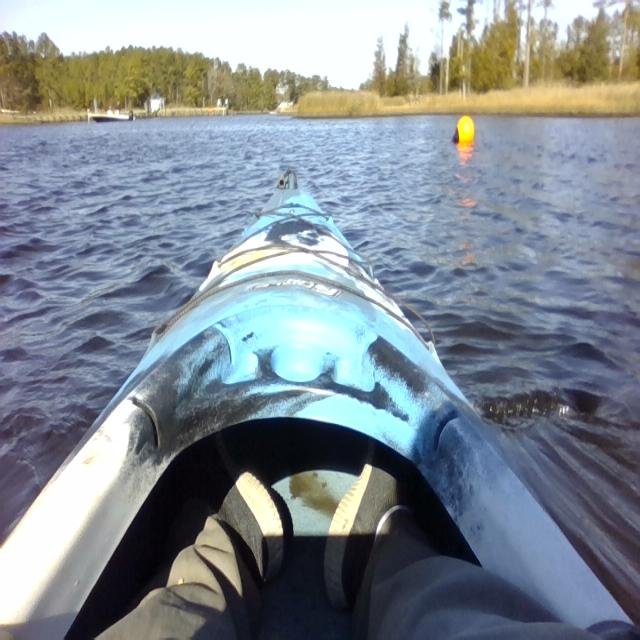Buoy: (449, 113, 476, 151)
